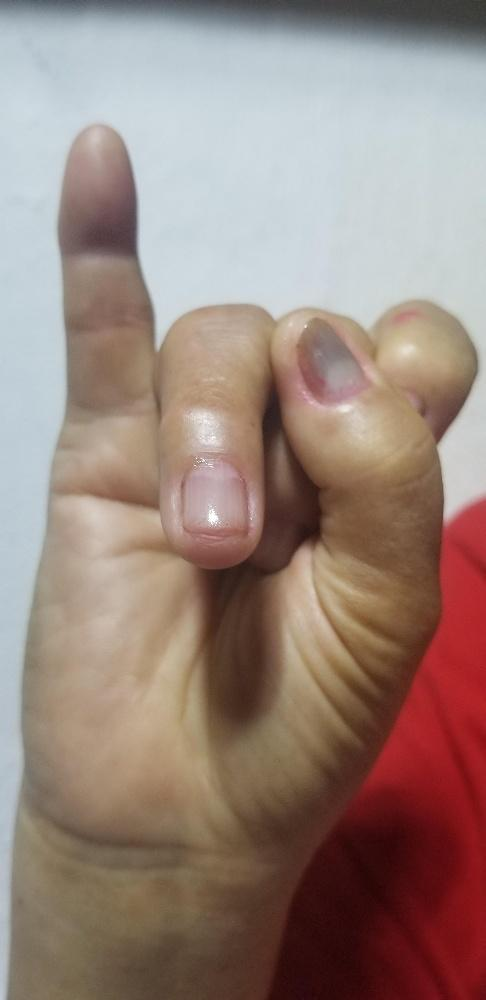i: (17, 119, 479, 801)
